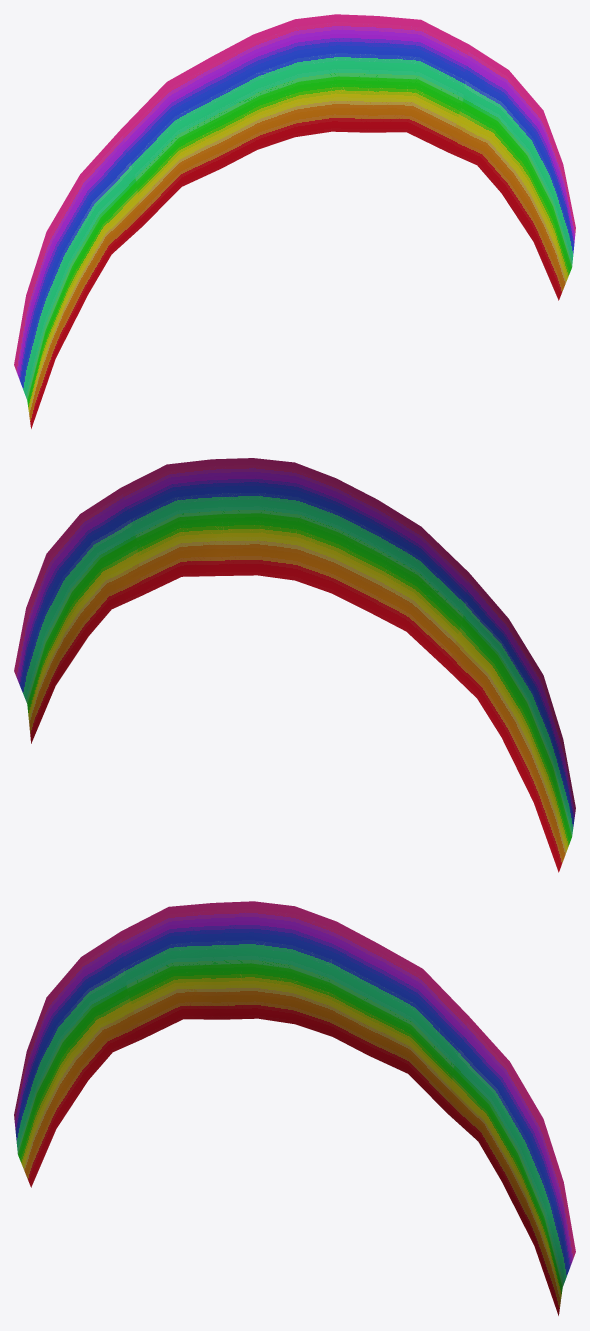
Rendered from Rainbow.fbx.
3 views of the same model, one above another, from view 1: azimuth 30°, elevation 25°; view 2: azimuth 150°, elevation 25°; view 3: azimuth 330°, elevation 25° (orthographic).
Visible parts, largest first — view 1: Plane; view 2: Plane; view 3: Plane.
Boxes of the visible parts, x1,y1,x2,y2 form: Plane: (14, 14, 575, 428); Plane: (14, 458, 575, 872); Plane: (14, 901, 575, 1315).
Bounding box in the file's own units: 849 × 499 × 14.77.
